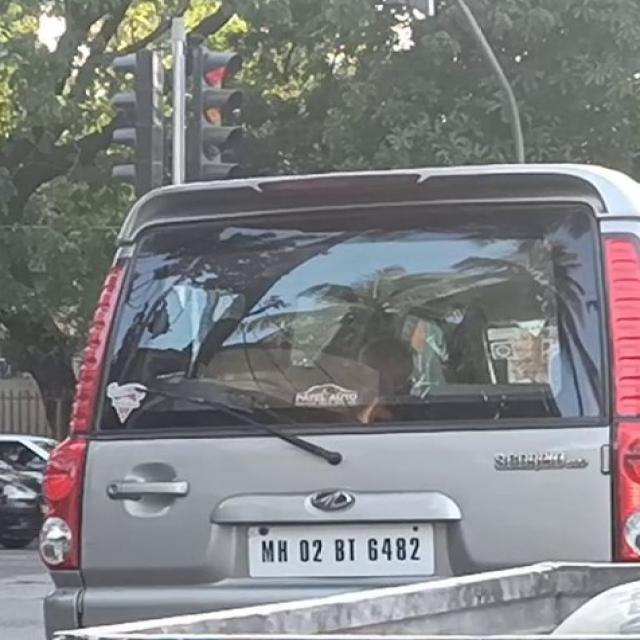Plate: (246, 521, 438, 578)
